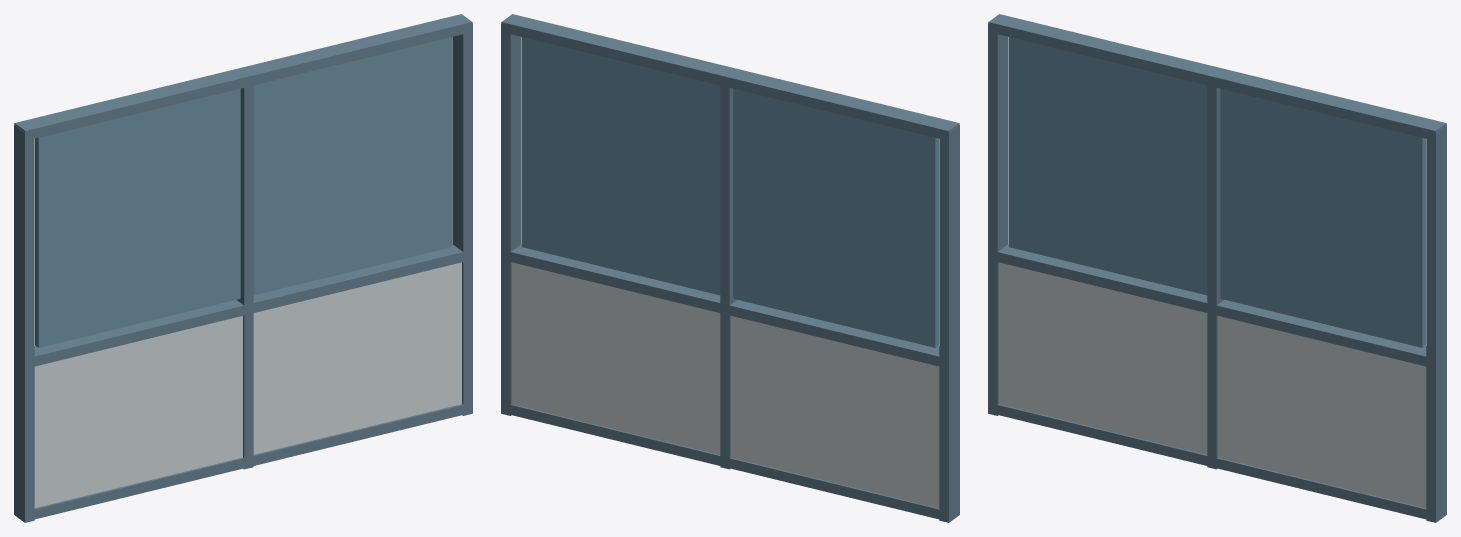
Rendered from partition.535d1866b65c.glb.
3 views of the same model, side by side, from view 1: azimuth 30°, elevation 25°; view 2: azimuth 150°, elevation 25°; view 3: azimuth 330°, elevation 25° (orthographic).
Visible parts, largest first — view 1: glazing_0002, lower_panel_0001, crossbar_0008, mullion_0003, crossbar_0007, mullion_0005, crossbar_0006, mullion_0004; view 2: glazing_0002, lower_panel_0001, crossbar_0008, mullion_0003, crossbar_0007, mullion_0005, crossbar_0006, mullion_0004; view 3: glazing_0002, lower_panel_0001, crossbar_0008, mullion_0005, crossbar_0007, mullion_0003, crossbar_0006, mullion_0004.
Part boxes in pixels (<box>): glazing_0002: <box>35,37,451,347</box>; lower_panel_0001: <box>34,262,461,507</box>; crossbar_0008: <box>14,14,472,140</box>; mullion_0003: <box>14,125,34,522</box>; crossbar_0007: <box>25,244,472,366</box>; mullion_0005: <box>452,24,472,415</box>; crossbar_0006: <box>25,403,472,521</box>; mullion_0004: <box>236,78,253,469</box>; glazing_0002: <box>522,37,938,347</box>; lower_panel_0001: <box>512,262,939,507</box>; crossbar_0008: <box>501,14,959,140</box>; mullion_0003: <box>939,125,959,522</box>; crossbar_0007: <box>501,244,948,368</box>; mullion_0005: <box>501,24,521,415</box>; crossbar_0006: <box>501,402,948,521</box>; mullion_0004: <box>720,77,737,469</box>; glazing_0002: <box>1009,37,1425,347</box>; lower_panel_0001: <box>999,262,1426,507</box>; crossbar_0008: <box>988,14,1446,140</box>; mullion_0005: <box>1426,125,1446,522</box>; crossbar_0007: <box>988,244,1435,368</box>; mullion_0003: <box>988,24,1008,415</box>; crossbar_0006: <box>988,402,1435,521</box>; mullion_0004: <box>1207,77,1224,469</box>.
Bounding box in the file's own units: 3.06 × 2.56 × 0.13.
